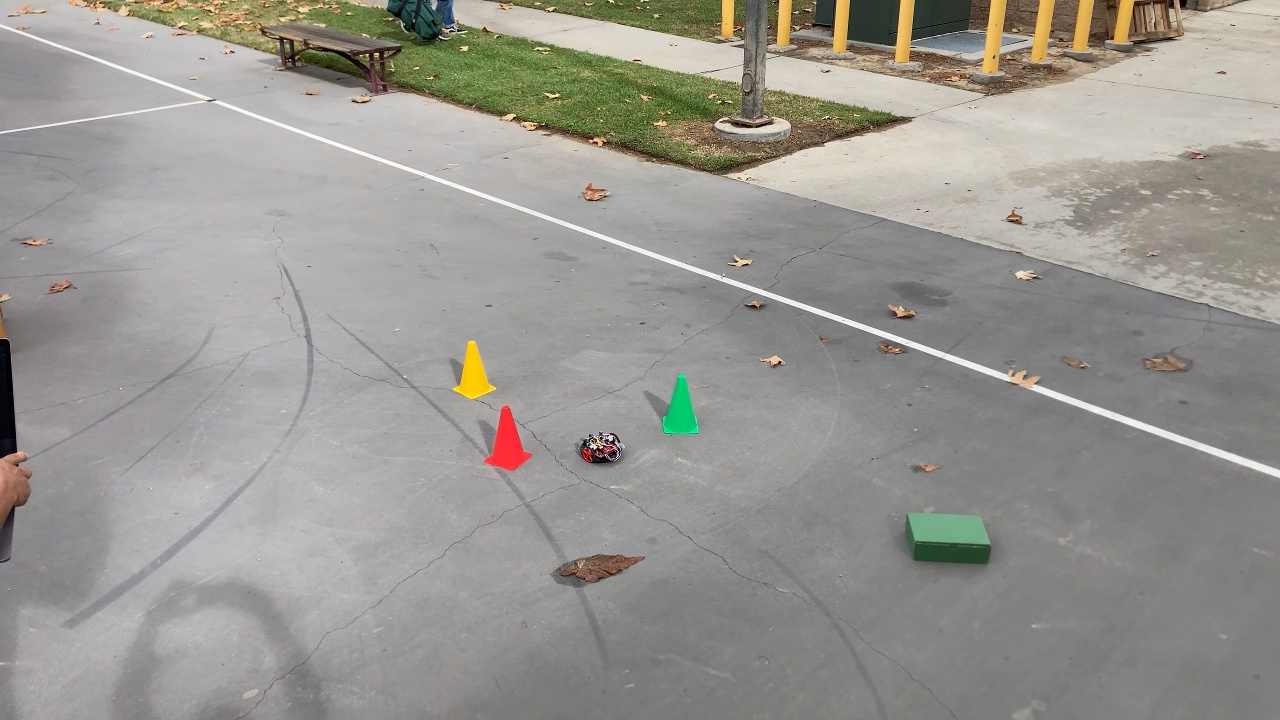green_cone: (658, 373, 702, 436)
red_cone: (479, 396, 536, 473)
robot: (575, 429, 628, 470)
yellow_cone: (451, 336, 498, 403)
